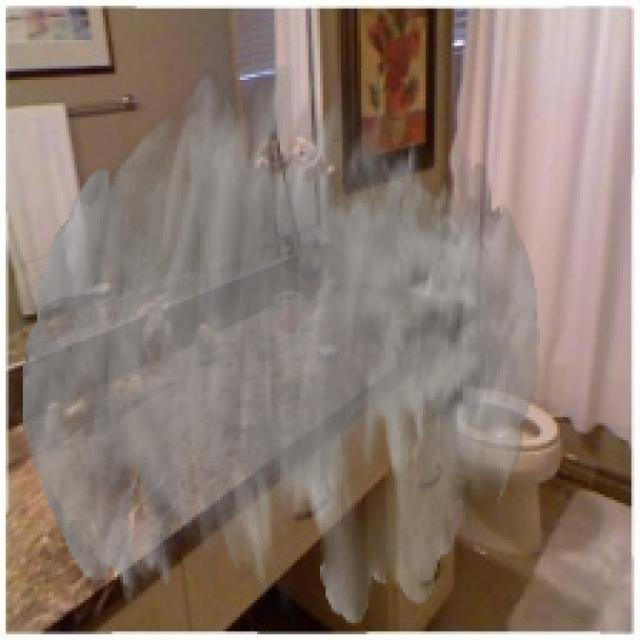smoke: (23, 65, 540, 626)
